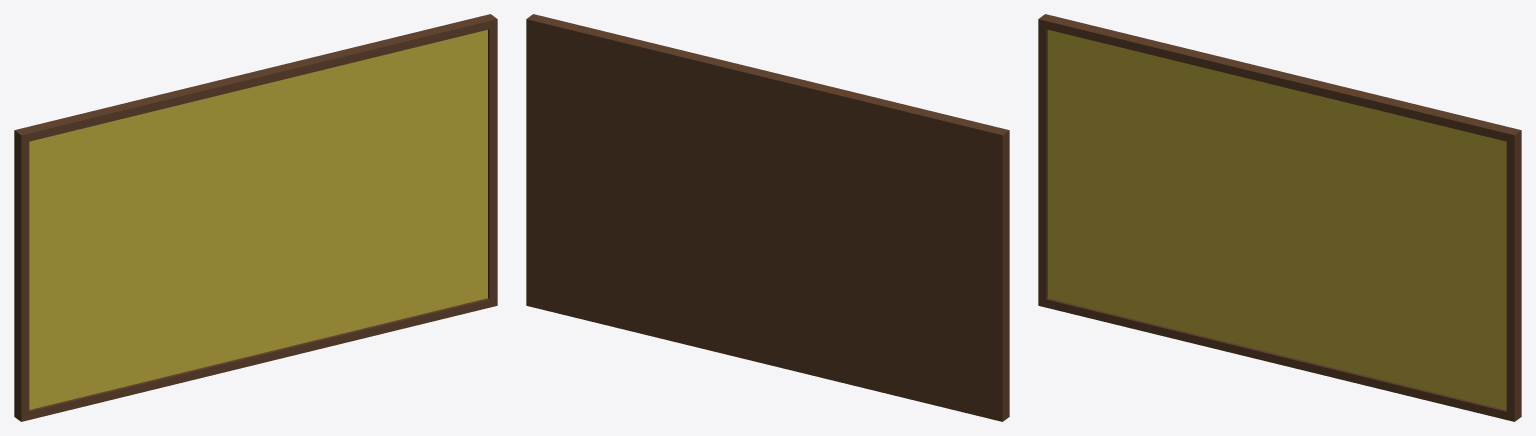
The model's file is WallDesk.fbx.
3 views of the same model, side by side, from view 1: azimuth 30°, elevation 25°; view 2: azimuth 150°, elevation 25°; view 3: azimuth 330°, elevation 25° (orthographic).
Parts seen in each view (by area): view 1: WallDesk; view 2: WallDesk; view 3: WallDesk.
Boxes of the visible parts, box(x1,y1,x2,y2) form: WallDesk: box(14, 14, 497, 421); WallDesk: box(526, 14, 1009, 421); WallDesk: box(1038, 14, 1521, 421).
Bounding box in the file's own units: 3.25 × 128 × 73.36.
